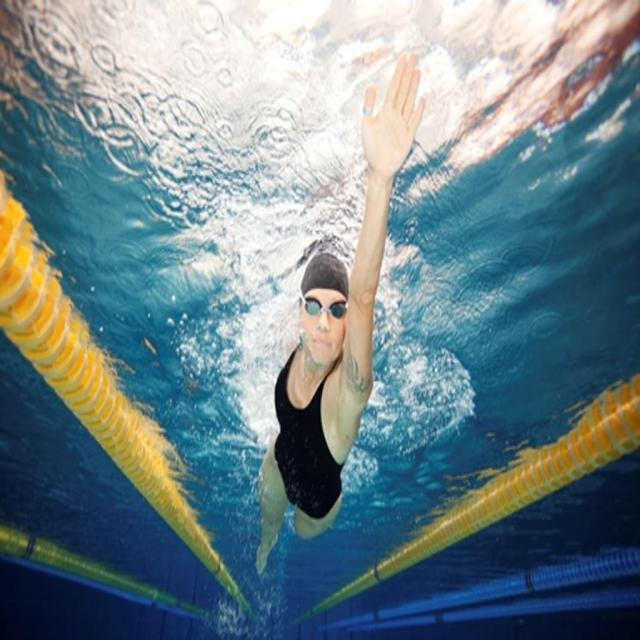nomask: (298, 281, 350, 368)
